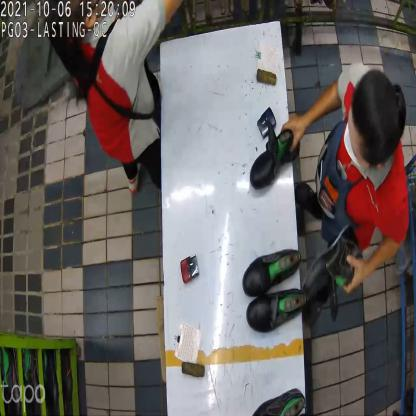shoes: (246, 122, 366, 282), (242, 250, 307, 332)
stamp: (256, 106, 278, 143), (180, 252, 199, 284)
